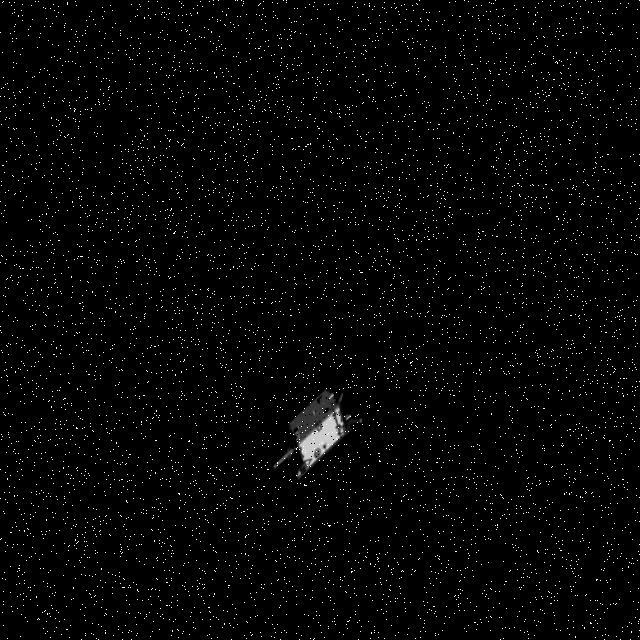satellite: (276, 390, 368, 484)
